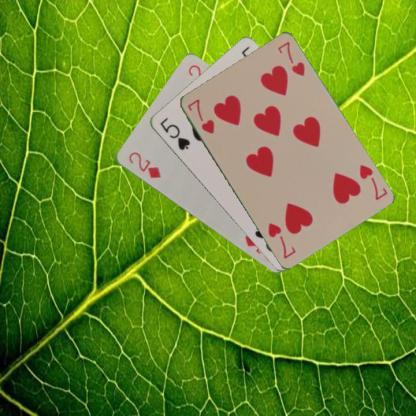2d: (125, 149, 162, 180)
5s: (157, 114, 191, 152)
7h: (356, 162, 388, 202), (184, 97, 216, 135)
